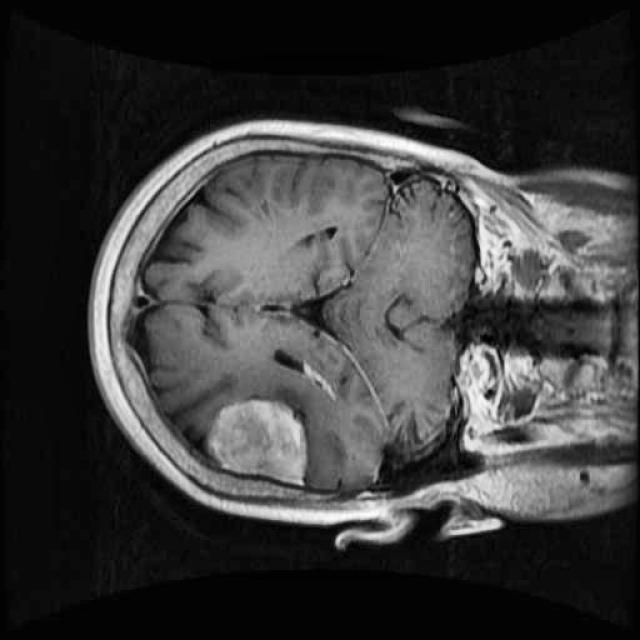Tumor: (203, 381, 324, 510)
